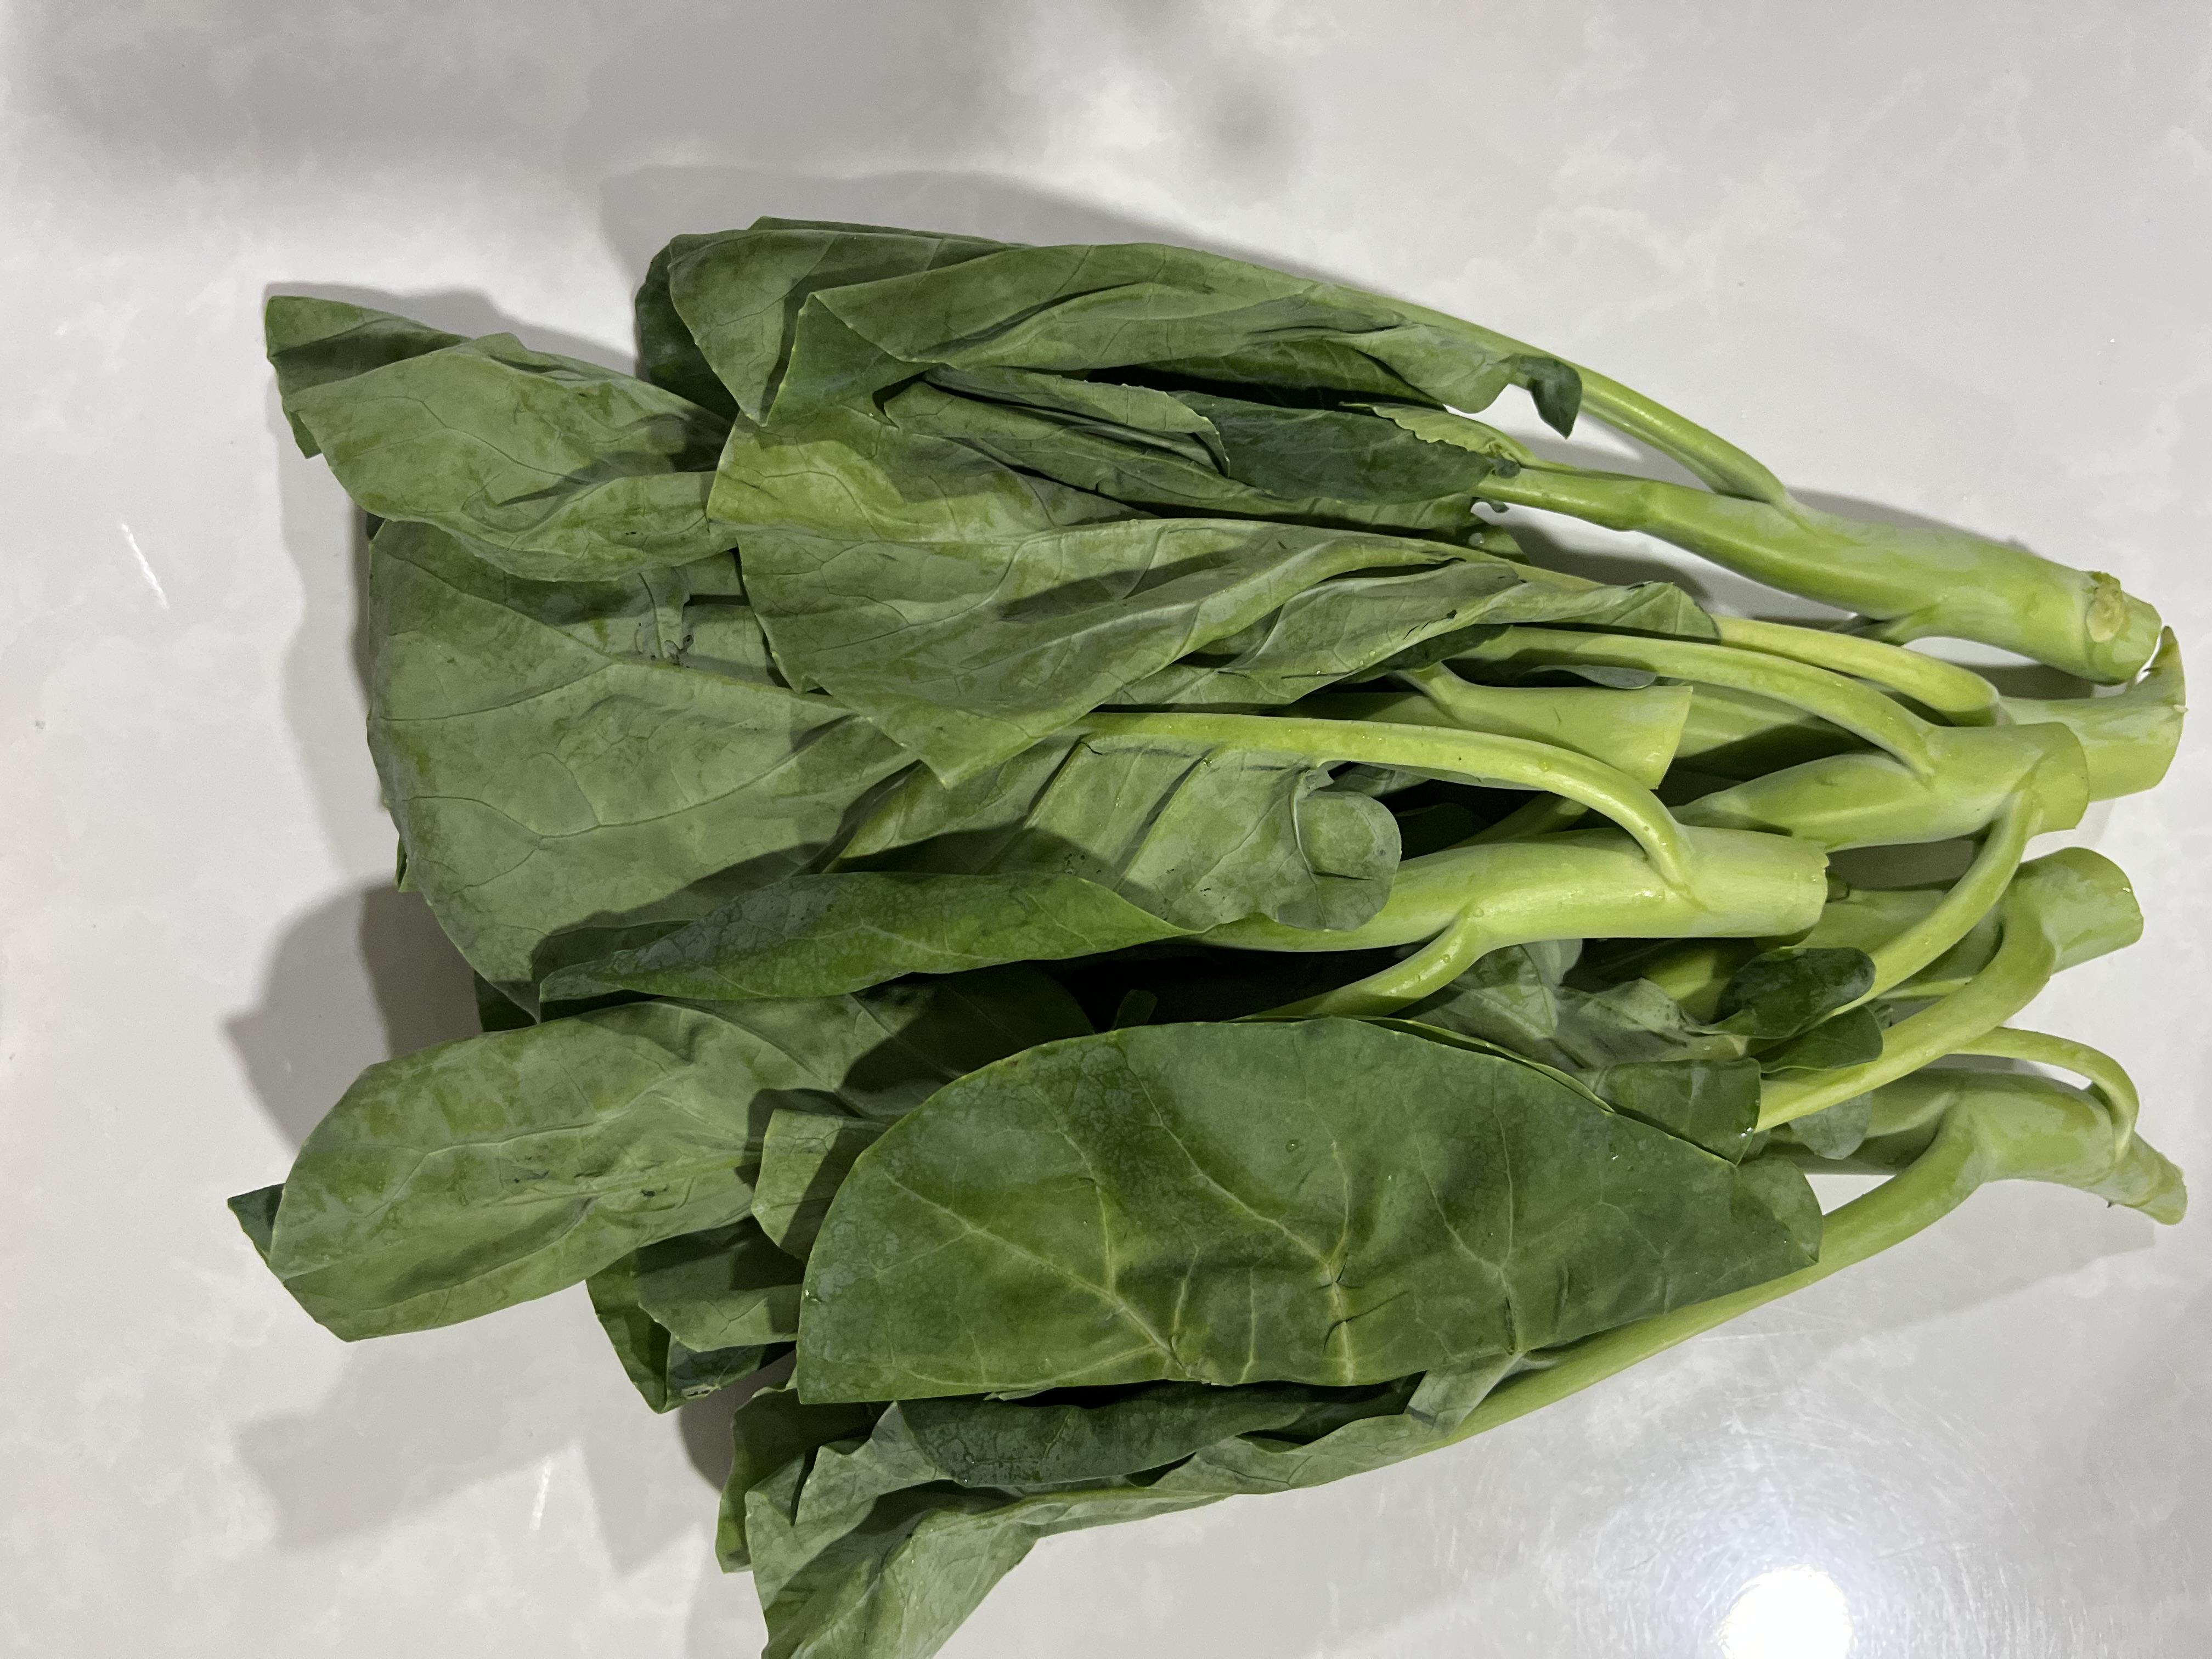Healthy-Pechay: (219, 192, 2029, 1563)
